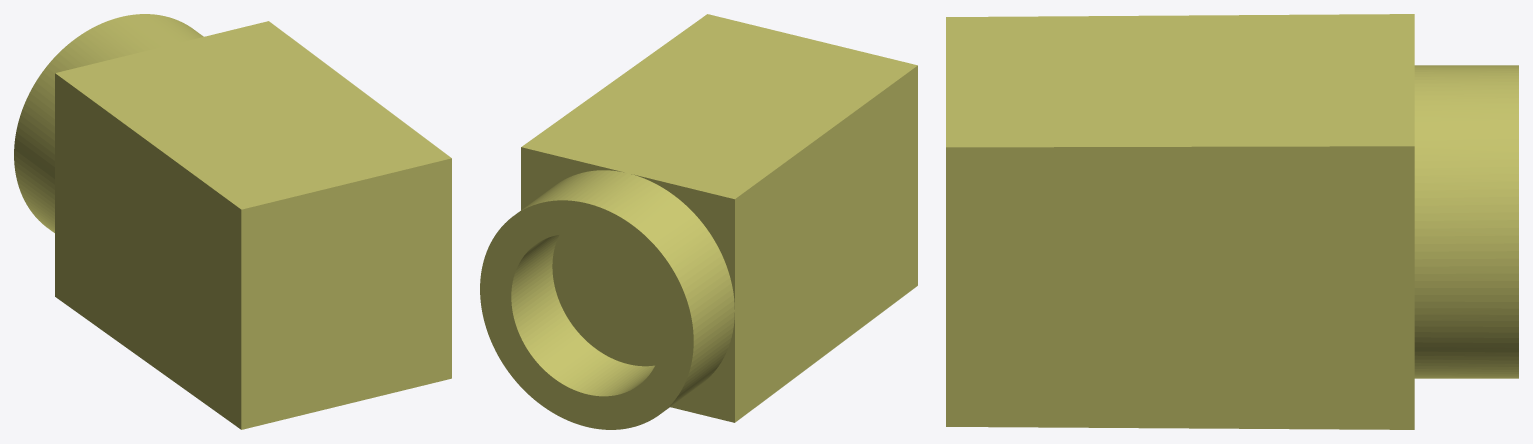
The picture shows the model from 3 angles, left to right: view 1: azimuth 30°, elevation 25°; view 2: azimuth 150°, elevation 25°; view 3: azimuth 270°, elevation 25°; orthographic projection. The views are drawn at different scales.
Parts seen in each view (by area): view 1: node; view 2: node; view 3: node.
Boxes of the visible parts, x1,y1,x2,y2 form: node: [14, 14, 451, 429]; node: [480, 14, 917, 429]; node: [946, 14, 1518, 429].
Size of the model in its own units: 0.0668 by 0.0668 by 0.1223.
